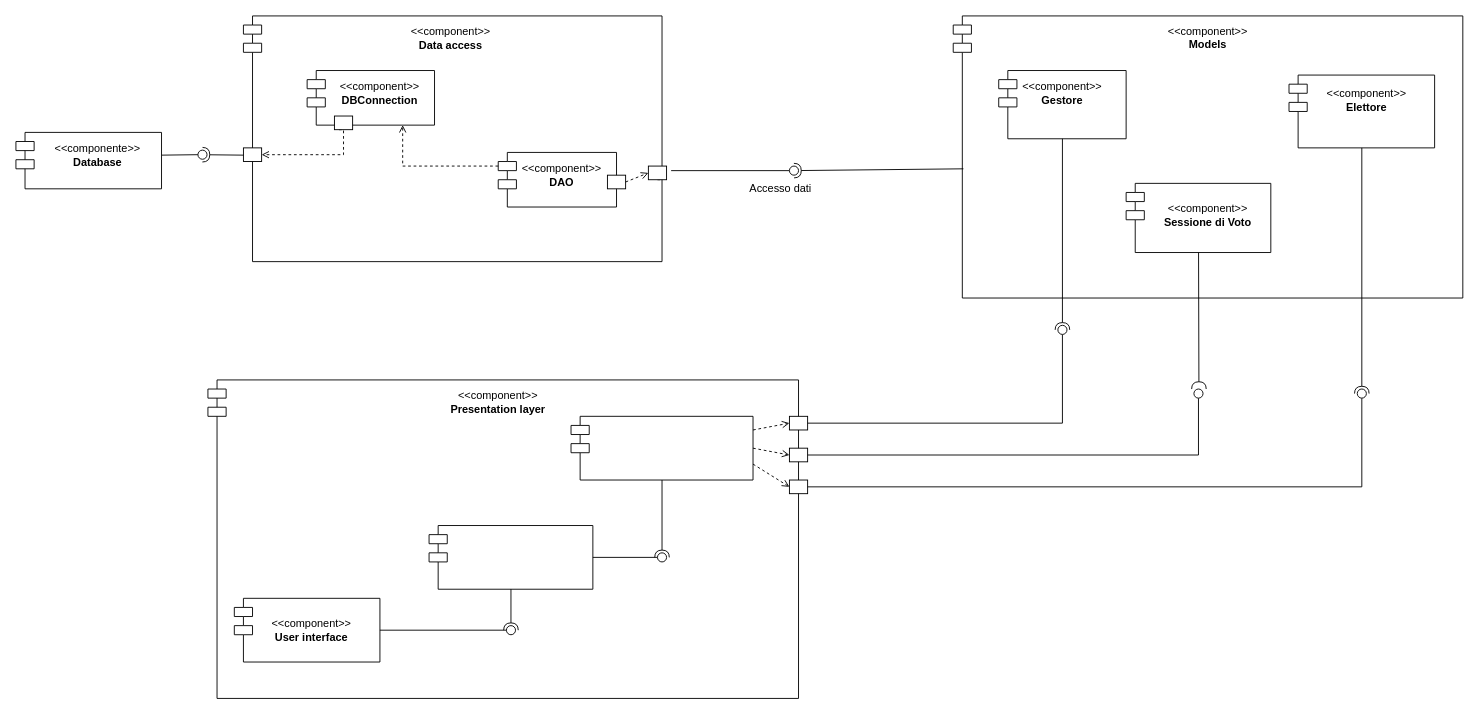
Some shapes in this 1479 by 714 pixel diagram are drawn without their labels. Each missing label, with the box of its shape:
<<component>> Controllers: (570, 415, 753, 480)
<<component>> Views: (428, 525, 593, 589)
